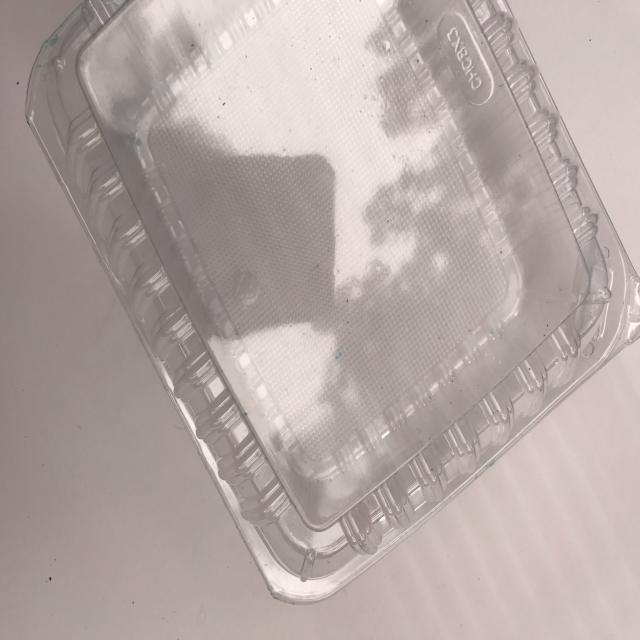plastic: (5, 0, 640, 607)
